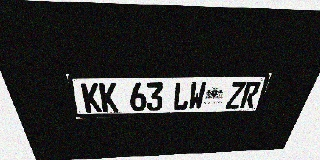3: (147, 82, 163, 111)
6: (129, 82, 146, 111)
K: (81, 83, 102, 112), (99, 83, 118, 112)
L: (173, 82, 190, 110)
R: (239, 81, 261, 108)
W: (188, 82, 207, 110)
Z: (225, 81, 246, 109)
